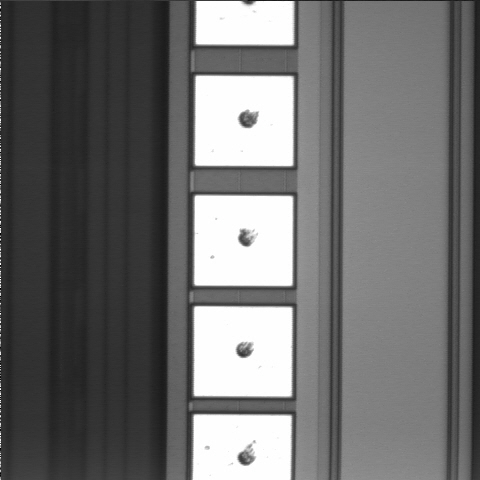pad: (194, 306, 292, 397), (194, 196, 293, 286), (195, 76, 293, 166)
